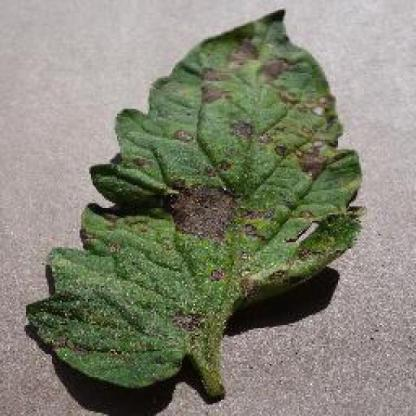Tomato_Blight: (25, 10, 362, 387)
